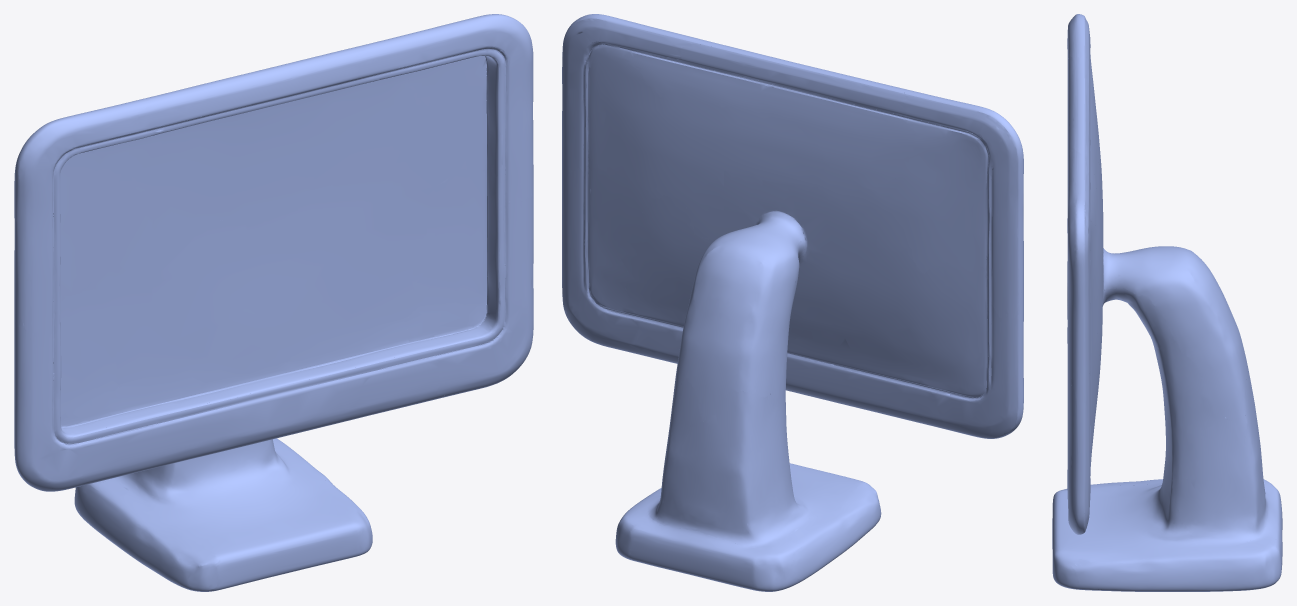
File: computacion.glb
3 renders of one model, left to right at view 1: azimuth 30°, elevation 25°; view 2: azimuth 150°, elevation 25°; view 3: azimuth 270°, elevation 25°, orthographic. The views are drawn at different scales.
Parts seen in each view (by area): view 1: model; view 2: model; view 3: model.
Part boxes in pixels (x1,y1,x2,y2): model: (14, 14, 533, 591); model: (562, 14, 1023, 591); model: (1052, 14, 1282, 591).
Bounding box in the file's own units: 1.88 × 1.74 × 0.8204.
